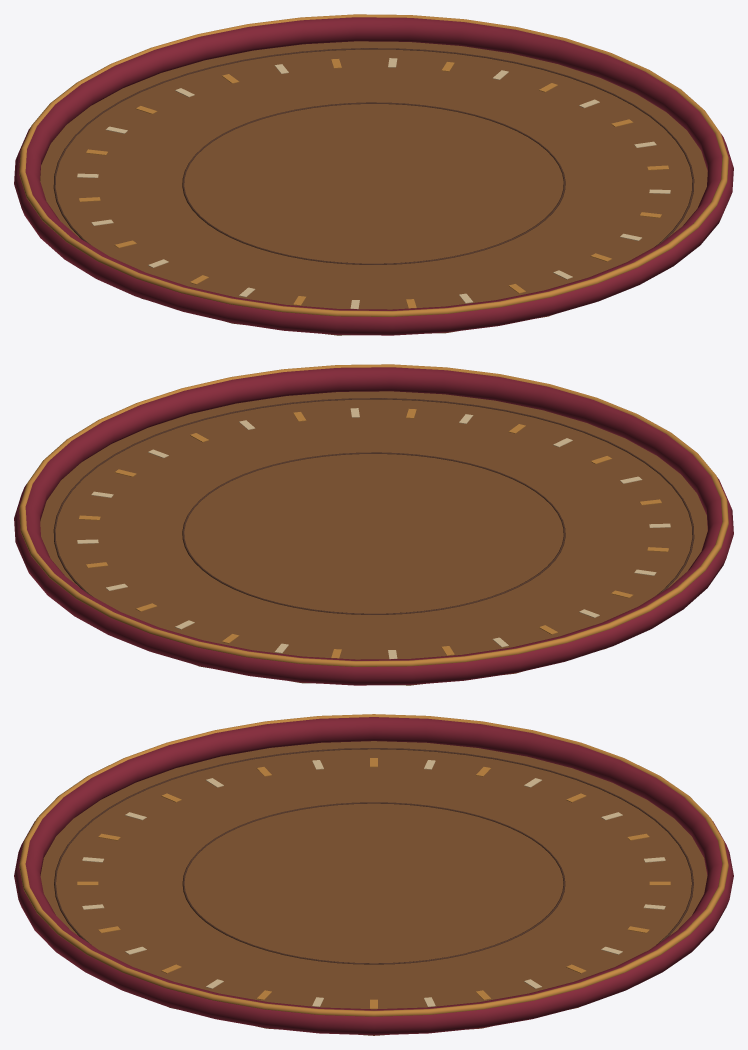
File: mia-ring_stage.glb
3 renders of one model, top to bottom at view 1: azimuth 30°, elevation 25°; view 2: azimuth 150°, elevation 25°; view 3: azimuth 270°, elevation 25°, orthographic.
Parts seen in each view (by area): view 1: Body_oak, Body_velvet, Body_brass, Body_glaze, Body_ivory; view 2: Body_oak, Body_velvet, Body_brass, Body_glaze, Body_ivory; view 3: Body_oak, Body_velvet, Body_brass, Body_glaze, Body_ivory.
Part boxes in pixels (left/top/right/bottom): Body_oak: left=40, top=41, right=707, bottom=335; Body_velvet: left=14, top=17, right=733, bottom=335; Body_brass: left=19, top=14, right=728, bottom=316; Body_glaze: left=53, top=48, right=694, bottom=264; Body_ivory: left=77, top=58, right=670, bottom=309; Body_oak: left=40, top=391, right=707, bottom=685; Body_velvet: left=14, top=367, right=733, bottom=685; Body_brass: left=19, top=364, right=728, bottom=666; Body_glaze: left=53, top=398, right=694, bottom=614; Body_ivory: left=77, top=408, right=670, bottom=659; Body_oak: left=40, top=741, right=707, bottom=1035; Body_velvet: left=14, top=717, right=733, bottom=1035; Body_brass: left=19, top=714, right=728, bottom=1016; Body_glaze: left=54, top=748, right=693, bottom=964; Body_ivory: left=82, top=760, right=665, bottom=1006.
Bounding box in the file's own units: 10.36 × 0.4172 × 10.36.
